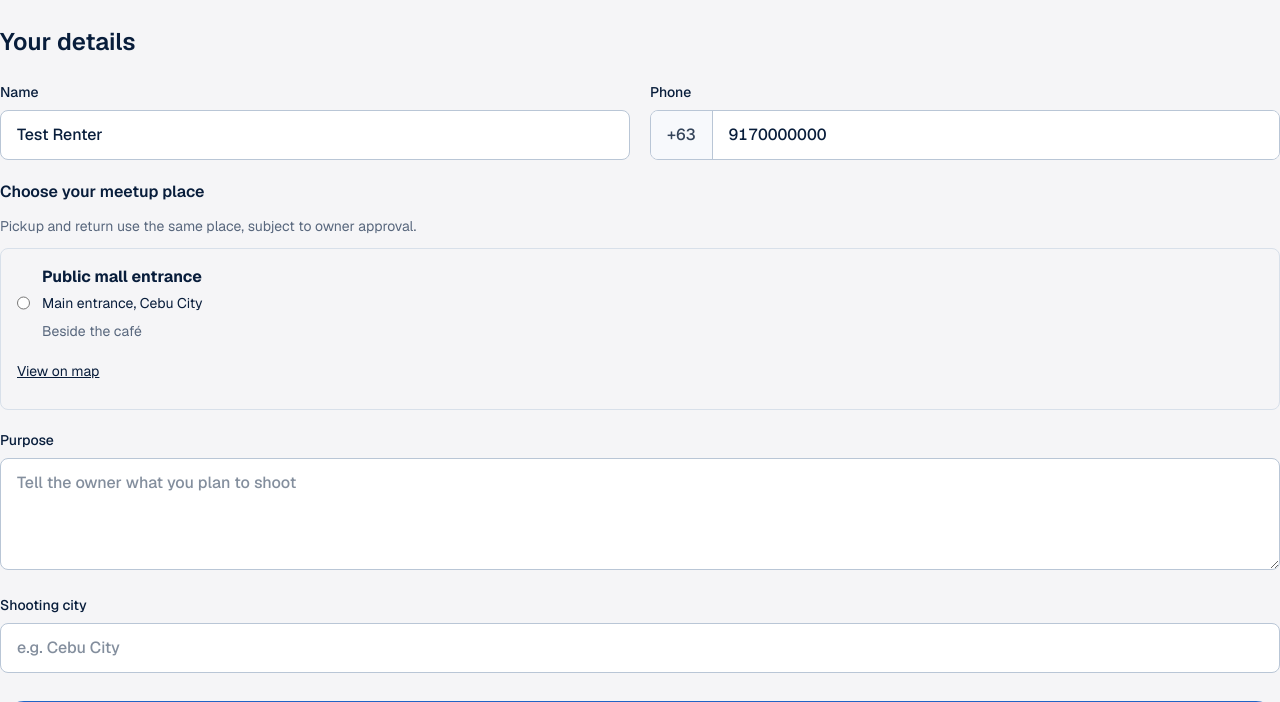
Test case: remains usable when tab storage is unavailable
Click the radio button at (24, 303), box [17,265,30,341]
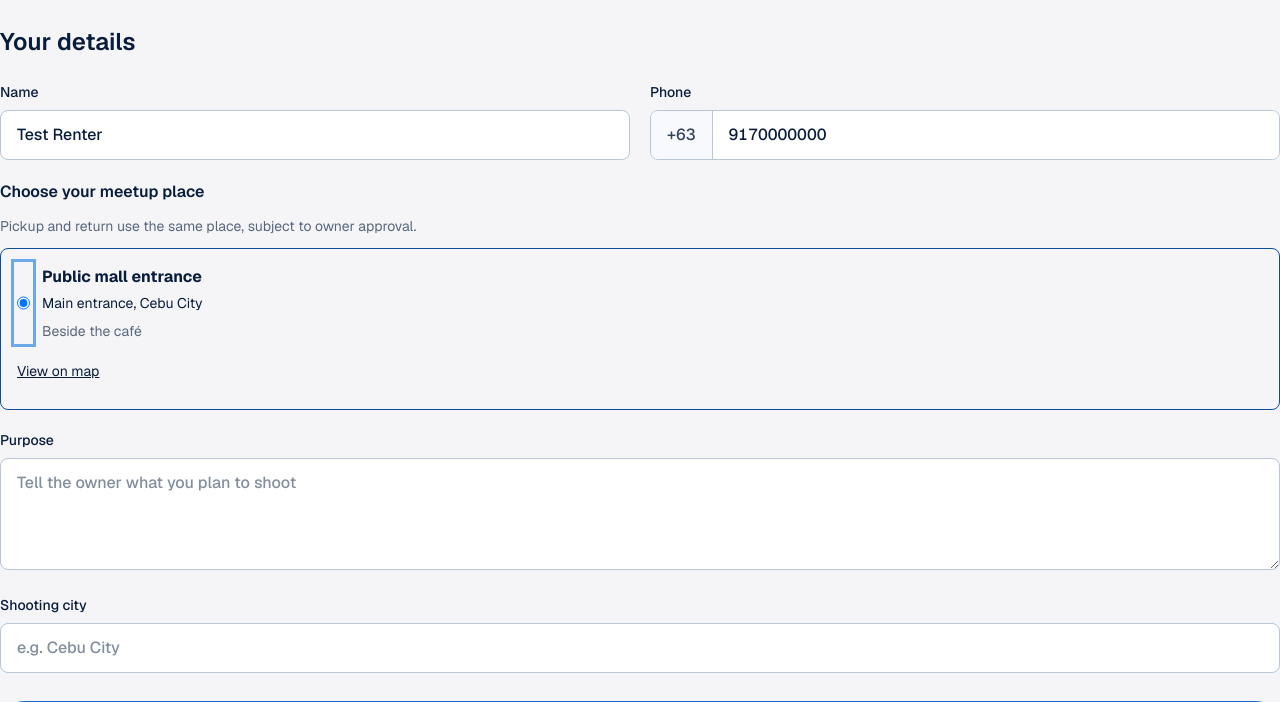
Type "Portrait practice" into the text box labelled "Purpose" at (640, 514), box [0,458,1279,570]
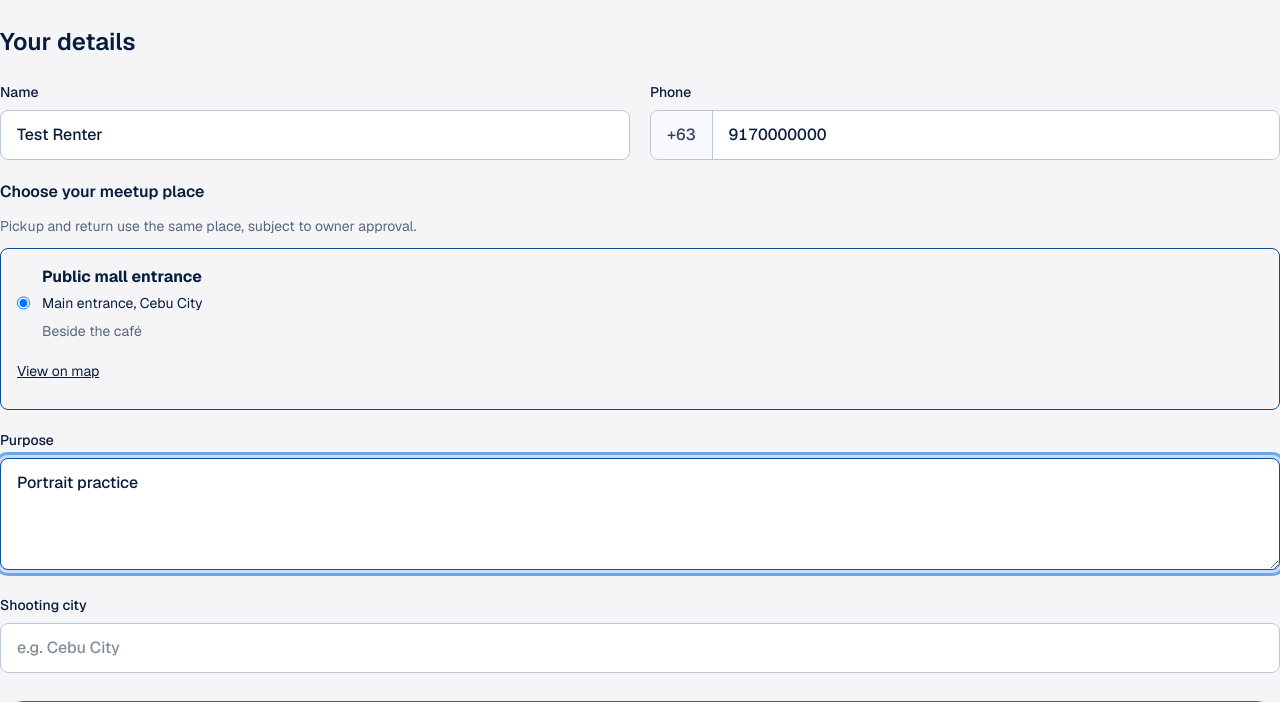
Type "Cebu City" into the field labelled "Shooting city" at (640, 648), box [0,623,1279,673]
(page scrolled)
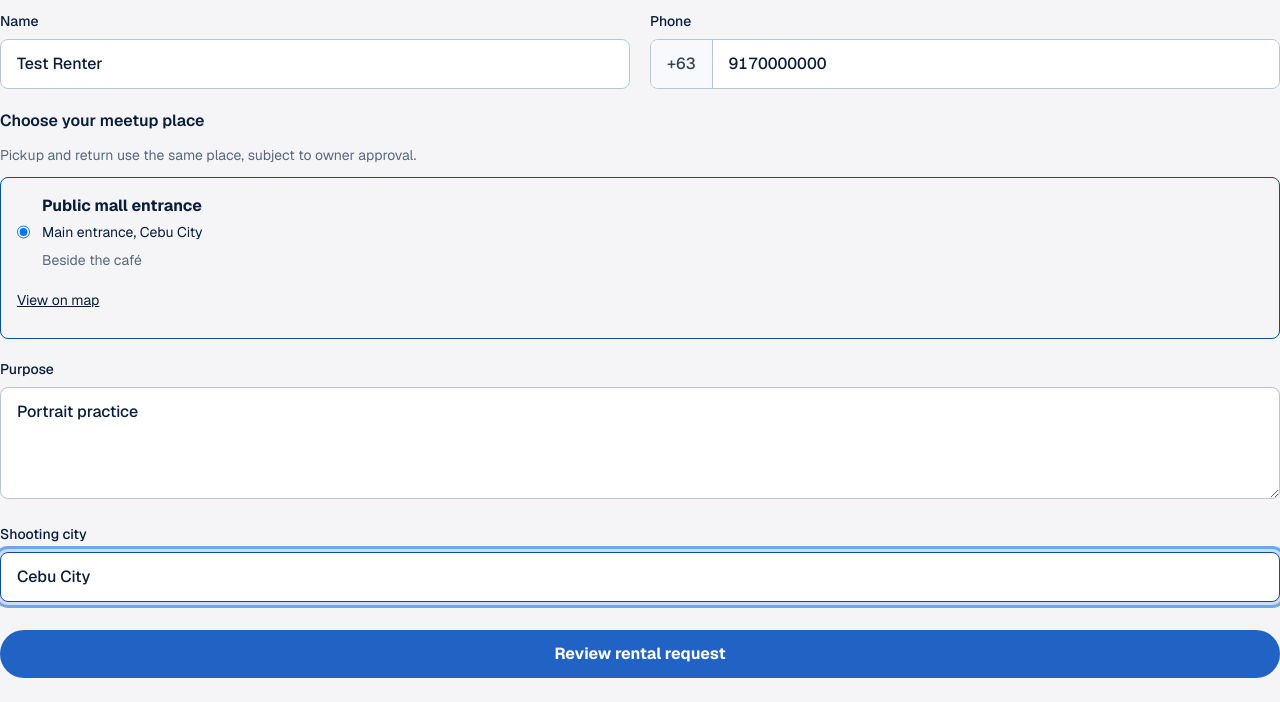
Click the button "Review rental request" at (640, 654), box [0,630,1279,678]
(page scrolled)
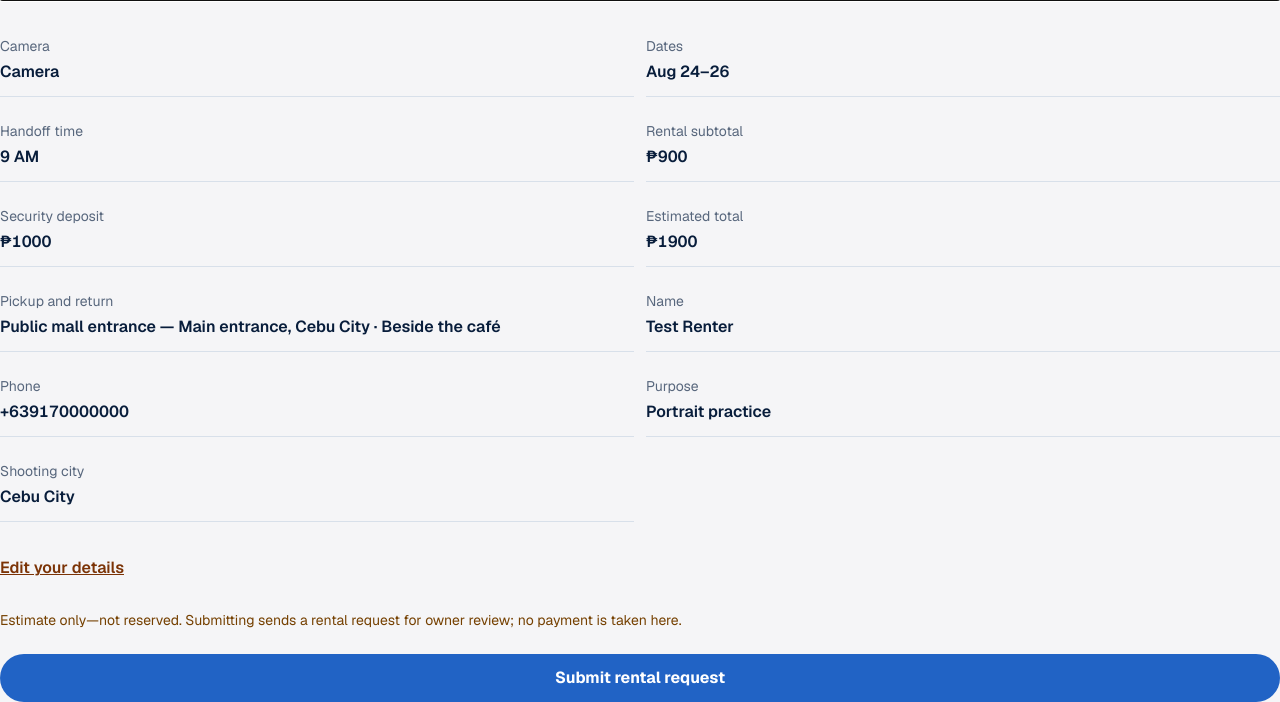
Expected: the button "Submit rental request" is shown, [0,654,1279,701]
